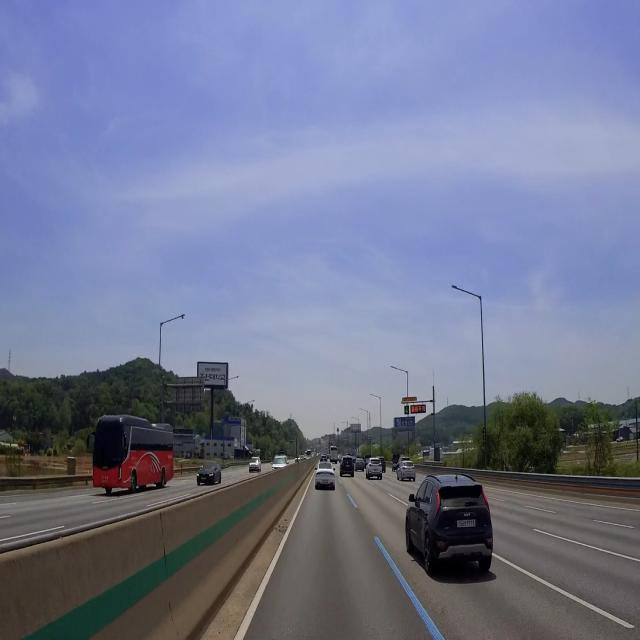car: (452, 514, 479, 532), (99, 478, 110, 485), (321, 478, 329, 484), (201, 477, 208, 482), (251, 465, 256, 471), (373, 468, 379, 472), (357, 463, 363, 466), (346, 464, 350, 468), (407, 472, 412, 475), (332, 457, 335, 460)
